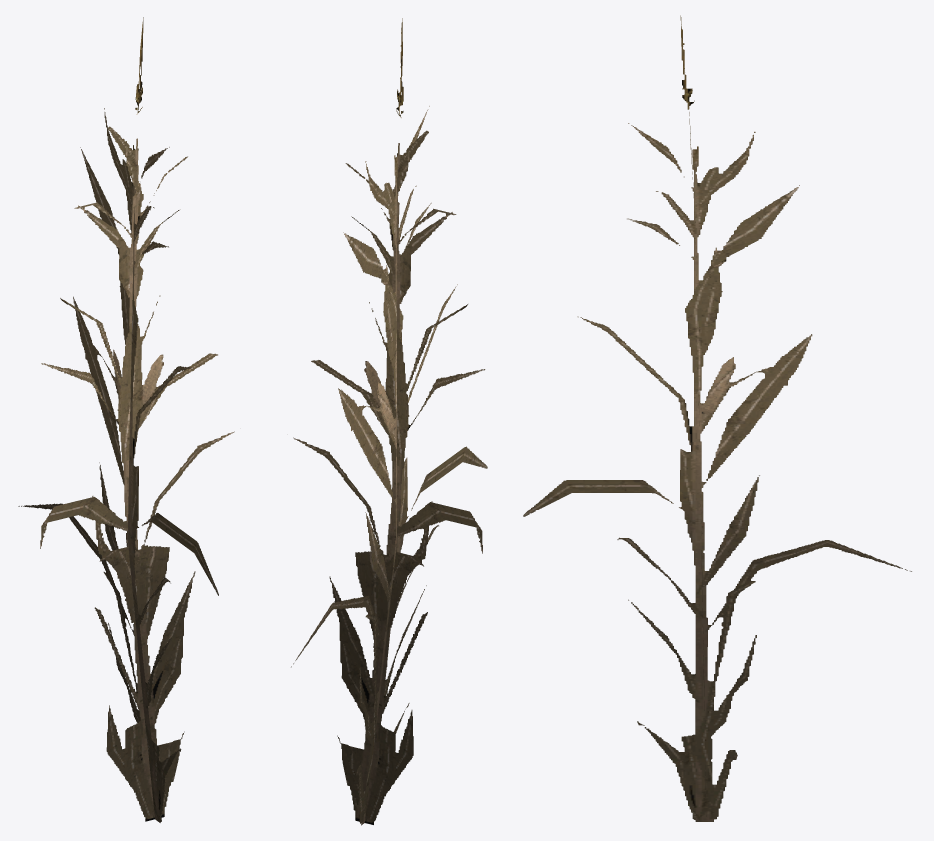
Rendered from SM_Corn03_Atl.fbx.
3 renders of one model, left to right at view 1: azimuth 30°, elevation 25°; view 2: azimuth 150°, elevation 25°; view 3: azimuth 270°, elevation 25°, orthographic. The views are drawn at different scales.
Parts seen in each view (by area): view 1: SM_Corn03_Atl.mo; view 2: SM_Corn03_Atl.mo; view 3: SM_Corn03_Atl.mo.
Boxes of the visible parts, x1,y1,x2,y2 form: SM_Corn03_Atl.mo: (18,17,234,822); SM_Corn03_Atl.mo: (291,18,487,825); SM_Corn03_Atl.mo: (523,15,911,821).
Size of the model in its own units: 66.14 by 239 by 108.
